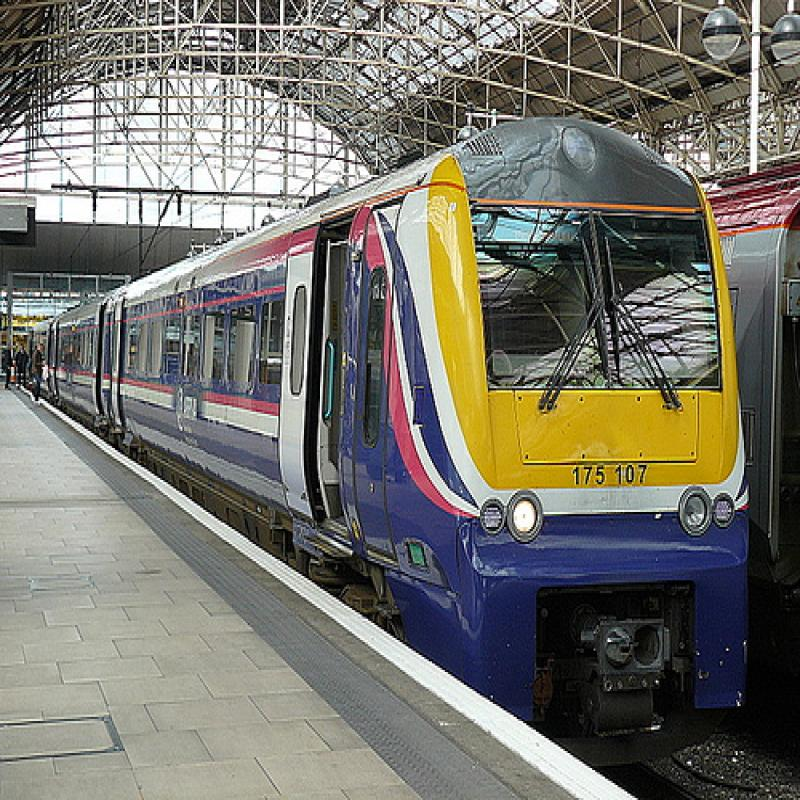train: (33, 114, 763, 775), (706, 182, 800, 634)
